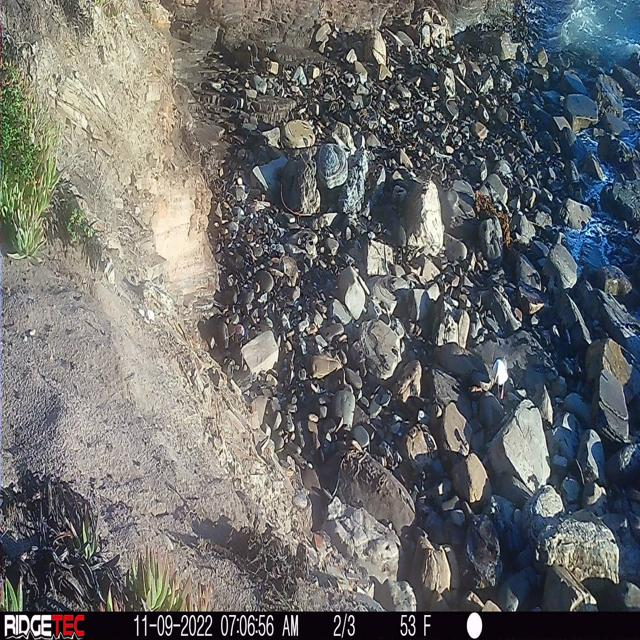bird: (486, 350, 518, 407)
